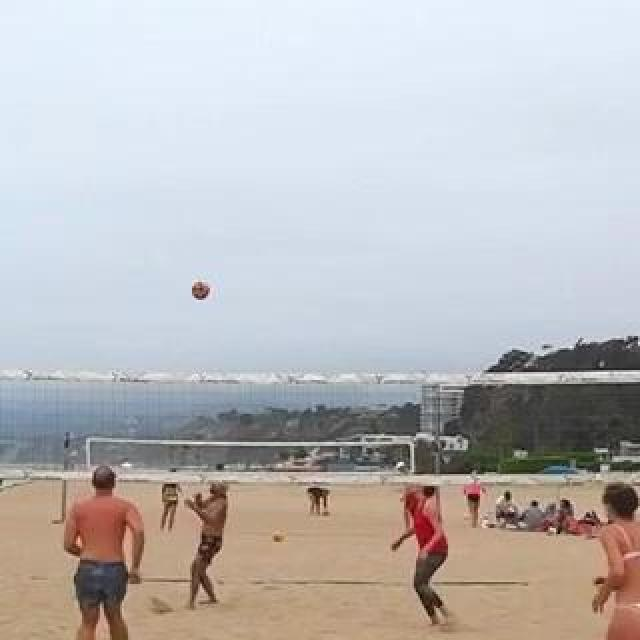volleyball: (193, 281, 211, 301), (274, 532, 284, 542)
